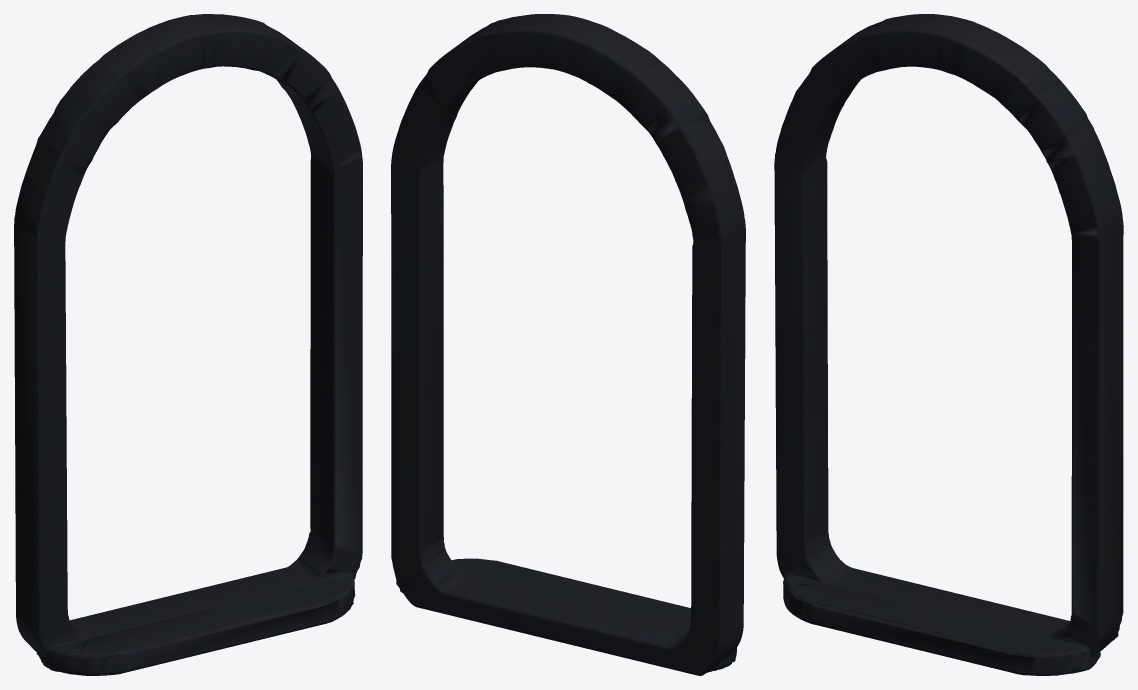
File: door.glb
The picture shows the model from 3 angles, left to right: view 1: azimuth 30°, elevation 25°; view 2: azimuth 150°, elevation 25°; view 3: azimuth 330°, elevation 25°; orthographic projection.
Bounding box in the file's own units: 0.5439 × 0.9502 × 0.1382.
1 material, 1 textured.
